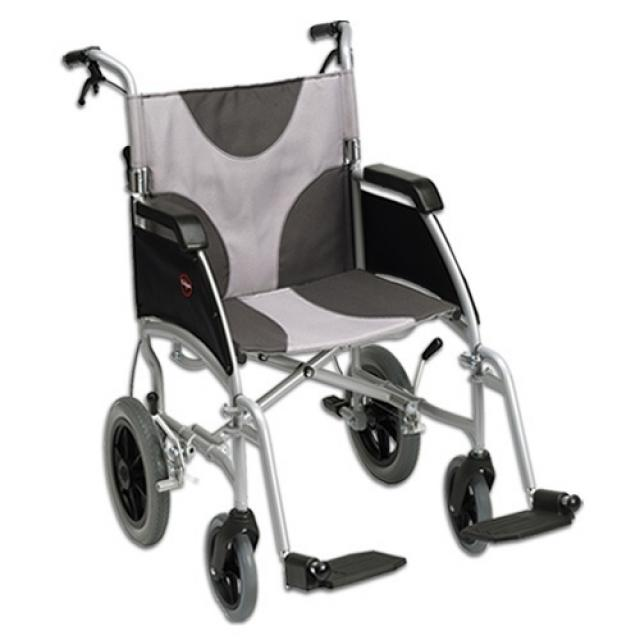wheelchair: (56, 13, 598, 634)
